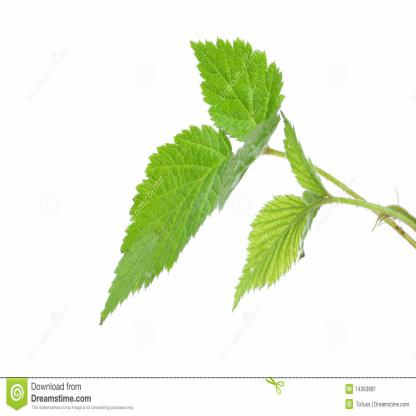strawberry leaf: (94, 127, 239, 325), (227, 192, 317, 317), (186, 34, 286, 138)
